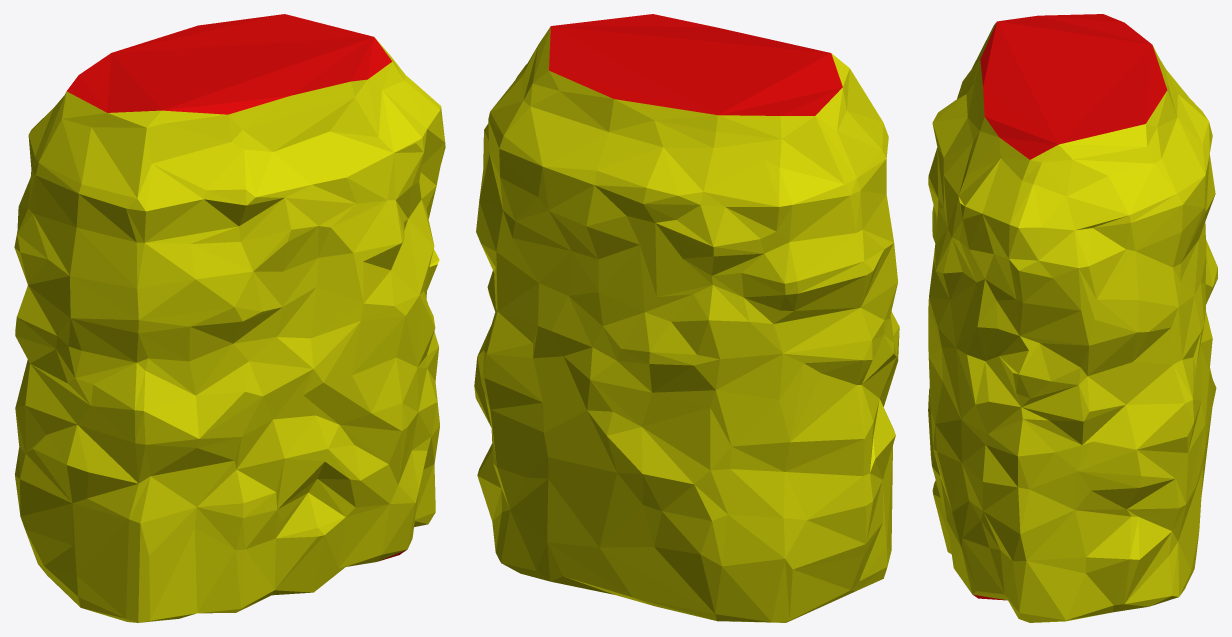
3 renders of one model, left to right at view 1: azimuth 30°, elevation 25°; view 2: azimuth 150°, elevation 25°; view 3: azimuth 270°, elevation 25°, orthographic. The views are drawn at different scales.
Visible parts, largest first — view 1: polySurface7; view 2: polySurface7; view 3: polySurface7.
Part boxes in pixels (x1=…): polySurface7: x1=14, y1=14, x2=445, y2=622; polySurface7: x1=474, y1=14, x2=899, y2=622; polySurface7: x1=928, y1=14, x2=1217, y2=622.
Size of the model in its own units: 40.78 by 50.94 by 27.41.
